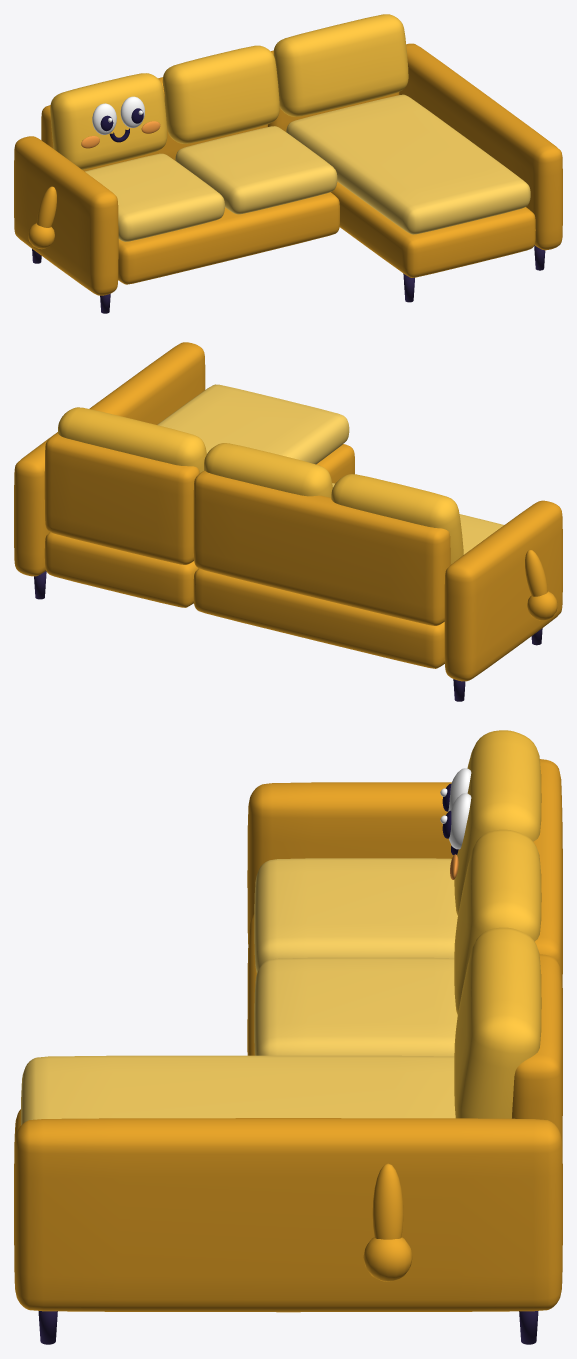
The model's file is sofa-corner.glb.
3 views of the same model, one above another, from view 1: azimuth 30°, elevation 25°; view 2: azimuth 150°, elevation 25°; view 3: azimuth 270°, elevation 25° (orthographic). The views are drawn at different scales.
Parts seen in each view (by area): view 1: Подушка оттоманки, Подлокотник.005, Подлокотник.004, Подушка спинки.007, Основание.002, Подушка спинки.006, Подушка сиденья.006, Основание оттоманки, Подушка сиденья.005, Подушка спинки.005, Спинка.002, Рука L.002 (+4 smaller); view 2: Спинка.002, Спинка.003, Подлокотник.004, Основание.002, Подлокотник.005, Подушка оттоманки, Основание оттоманки, Подушка спинки.007, Подушка спинки.005, Подушка спинки.006, Подушка сиденья.005, Рука L.002 (+1 smaller); view 3: Подлокотник.005, Подушка оттоманки, Подушка сиденья.005, Подушка сиденья.006, Подлокотник.004, Подушка спинки.007, Подушка спинки.006, Подушка спинки.005, Спинка.003, Спинка.002, Рука R.002, Ладошка R.002 (+2 smaller).
Boxes of the visible parts, x1,y1,x2,y2 form: Подушка оттоманки: (286, 94, 530, 234); Подлокотник.005: (399, 43, 562, 250); Подлокотник.004: (14, 136, 118, 295); Подушка спинки.007: (273, 14, 408, 116); Основание.002: (118, 192, 339, 284); Подушка спинки.006: (162, 45, 279, 143); Подушка сиденья.006: (175, 126, 337, 214); Основание оттоманки: (331, 182, 535, 277); Подушка сиденья.005: (85, 153, 224, 241); Подушка спинки.005: (50, 73, 167, 169); Спинка.002: (41, 77, 267, 171); Рука L.002: (36, 186, 56, 227); Спинка.002: (193, 470, 450, 625); Спинка.003: (44, 433, 199, 564); Подлокотник.004: (444, 500, 562, 681); Основание.002: (193, 568, 444, 668); Подлокотник.005: (14, 342, 205, 576); Подушка оттоманки: (157, 384, 349, 464); Основание оттоманки: (44, 444, 354, 607); Подушка спинки.007: (58, 407, 206, 472); Подушка спинки.005: (331, 474, 463, 564); Подушка спинки.006: (204, 443, 332, 497); Подушка сиденья.005: (459, 514, 503, 554); Рука L.002: (525, 550, 547, 596); Подлокотник.005: (14, 1118, 562, 1312); Подушка оттоманки: (21, 1055, 455, 1125); Подушка сиденья.005: (254, 858, 457, 972); Подушка сиденья.006: (254, 957, 457, 1056); Подлокотник.004: (247, 782, 562, 943); Подушка спинки.007: (454, 927, 541, 1118); Подушка спинки.006: (454, 829, 541, 1014); Подушка спинки.005: (454, 730, 541, 915); Спинка.003: (512, 954, 562, 1157); Спинка.002: (533, 759, 562, 1005); Рука R.002: (372, 1163, 403, 1239); Ладошка R.002: (363, 1237, 412, 1281).
Bounding box in the file's own units: 2.82 × 0.9774 × 1.6.
